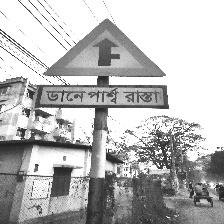Side-road-right: (39, 18, 169, 110)
